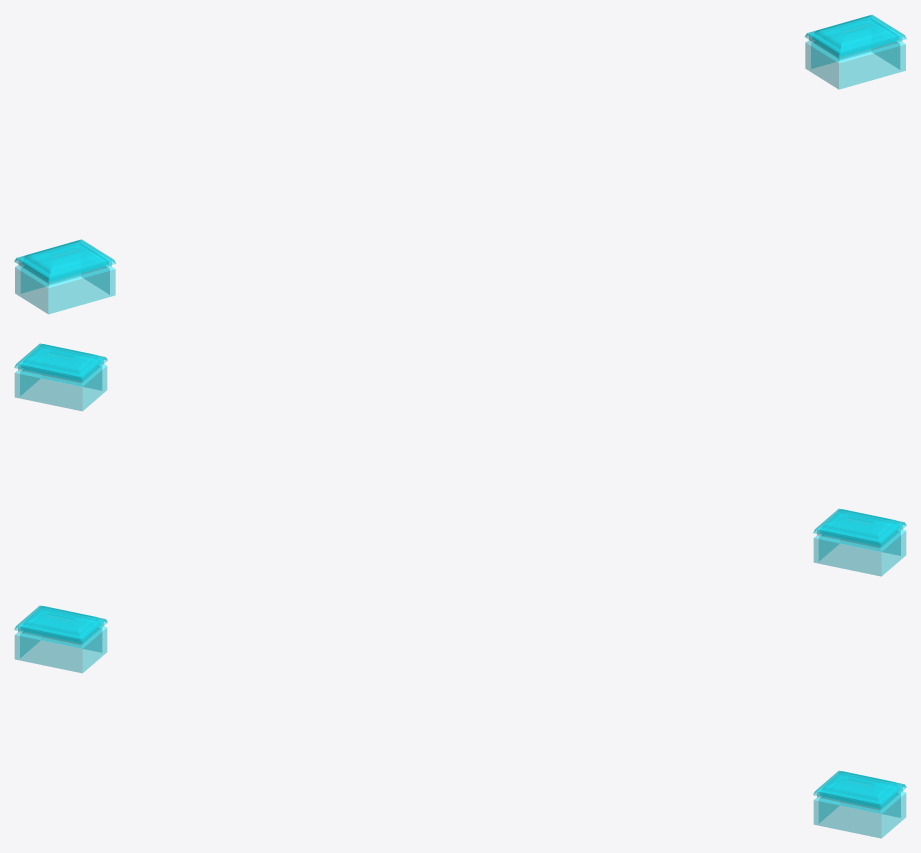
Rendered from Roof_openings.glb.
The picture shows the model from 3 angles, top to bottom: view 1: azimuth 30°, elevation 25°; view 2: azimuth 150°, elevation 25°; view 3: azimuth 330°, elevation 25°; orthographic projection. The views are drawn at different scales.
Parts seen in each view (by area): view 1: world; view 2: world; view 3: world.
Part boxes in pixels (x1=…): world: x1=14, y1=14, x2=906, y2=314; world: x1=14, y1=343, x2=906, y2=576; world: x1=14, y1=605, x2=906, y2=838.
Size of the model in its own units: 19.97 by 0.8817 by 2.55.
